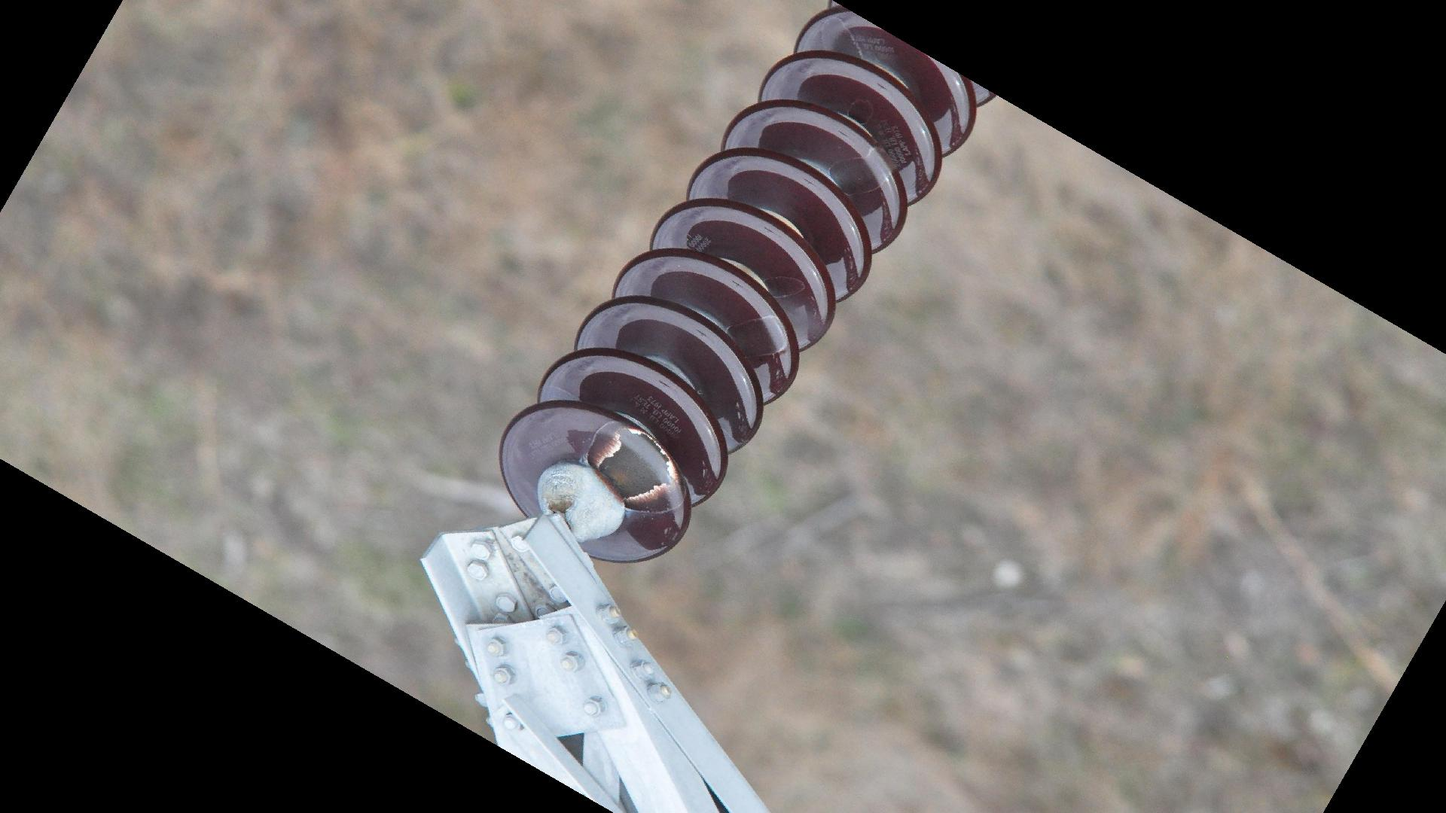insulator: (496, 1, 1011, 568)
insulator_flashover: (594, 425, 677, 506)
